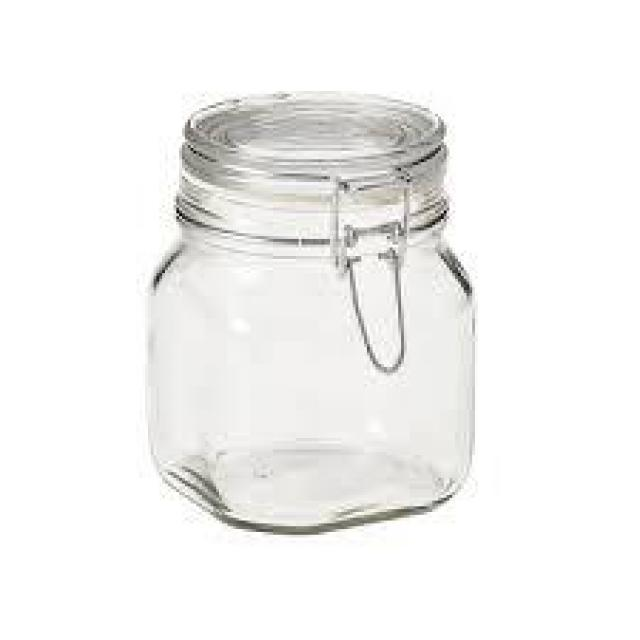non-organic waste: (144, 88, 476, 535)
